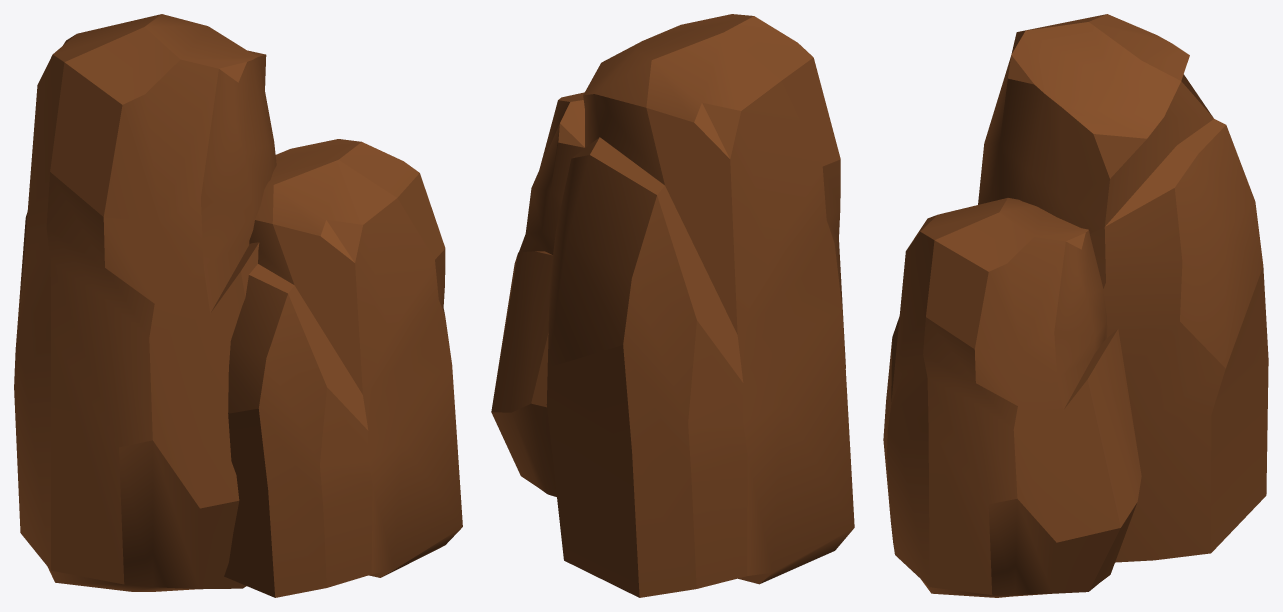
The model's file is Rock Large 3.glb.
3 views of the same model, side by side, from view 1: azimuth 30°, elevation 25°; view 2: azimuth 150°, elevation 25°; view 3: azimuth 270°, elevation 25° (orthographic). The views are drawn at different scales.
Visible parts, largest first — view 1: Rock_Large_3; view 2: Rock_Large_3; view 3: Rock_Large_3.
Boxes of the visible parts, x1=… form: Rock_Large_3: x1=14, y1=14, x2=462, y2=597; Rock_Large_3: x1=491, y1=14, x2=854, y2=597; Rock_Large_3: x1=883, y1=14, x2=1268, y2=597.
Bounding box in the file's own units: 5.31 × 7.43 × 5.19.
Materials: 1 (1 with a texture image).
